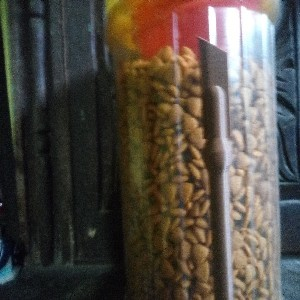cutter: (195, 34, 232, 300)
